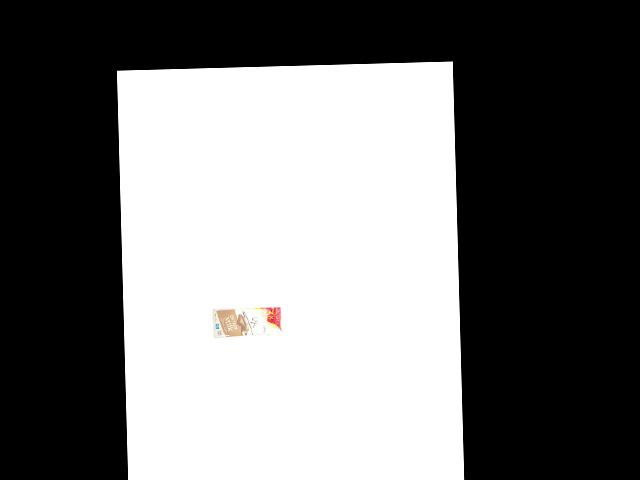chocolate: (214, 304, 283, 339)
